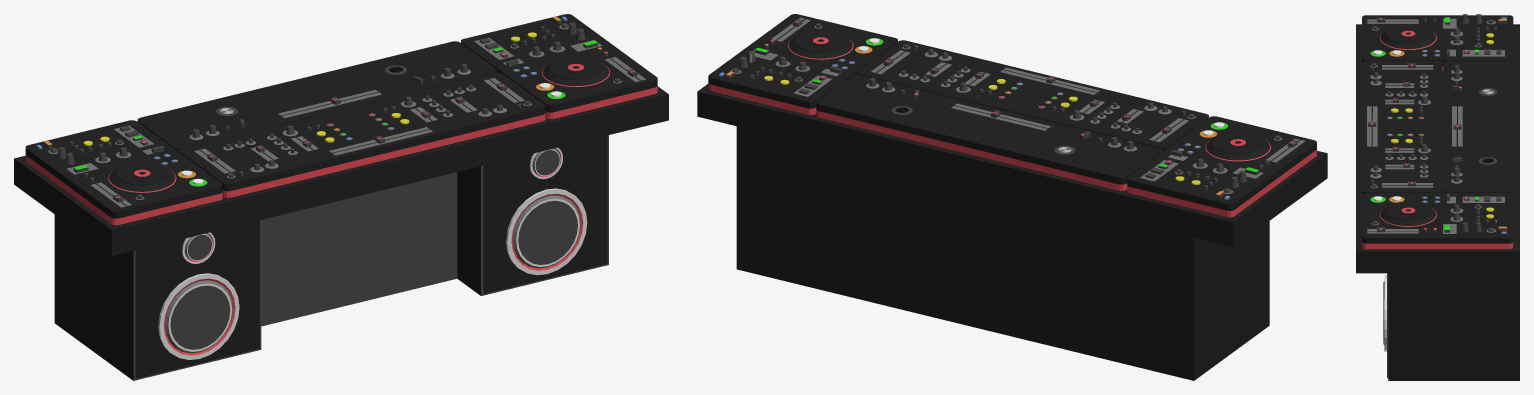
Rendered from mixtable.fbx.
3 views of the same model, side by side, from view 1: azimuth 30°, elevation 25°; view 2: azimuth 150°, elevation 25°; view 3: azimuth 270°, elevation 25° (orthographic). The views are drawn at different scales.
Parts seen in each view (by area): view 1: Cube.001; view 2: Cube.001; view 3: Cube.001.
Boxes of the visible parts, x1,y1,x2,y2 form: Cube.001: (14,14,668,380); Cube.001: (697,14,1327,380); Cube.001: (1356,14,1519,380).
Bounding box in the file's own units: 1172 × 397 × 357.
